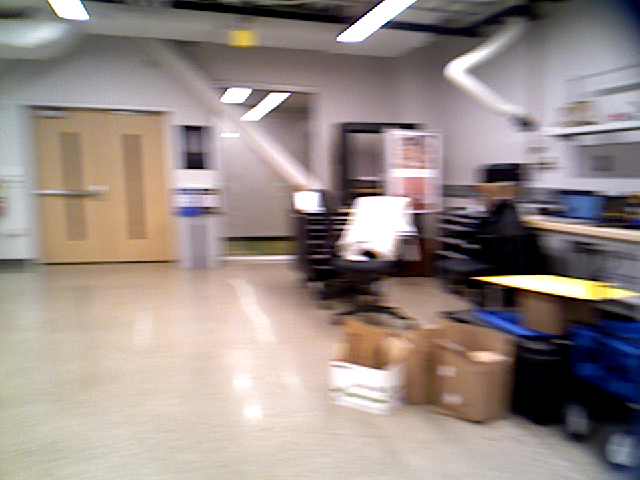painting1: (170, 127, 217, 171)
